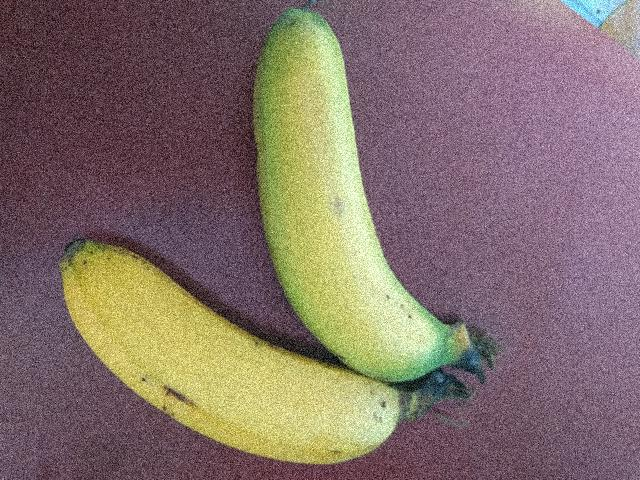freshripe: (50, 248, 462, 477), (240, 11, 505, 355)
